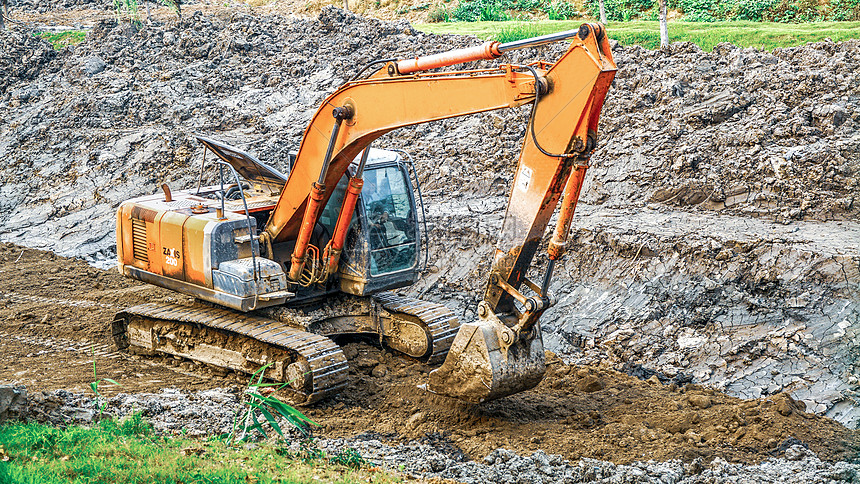excavator: (103, 16, 623, 405)
